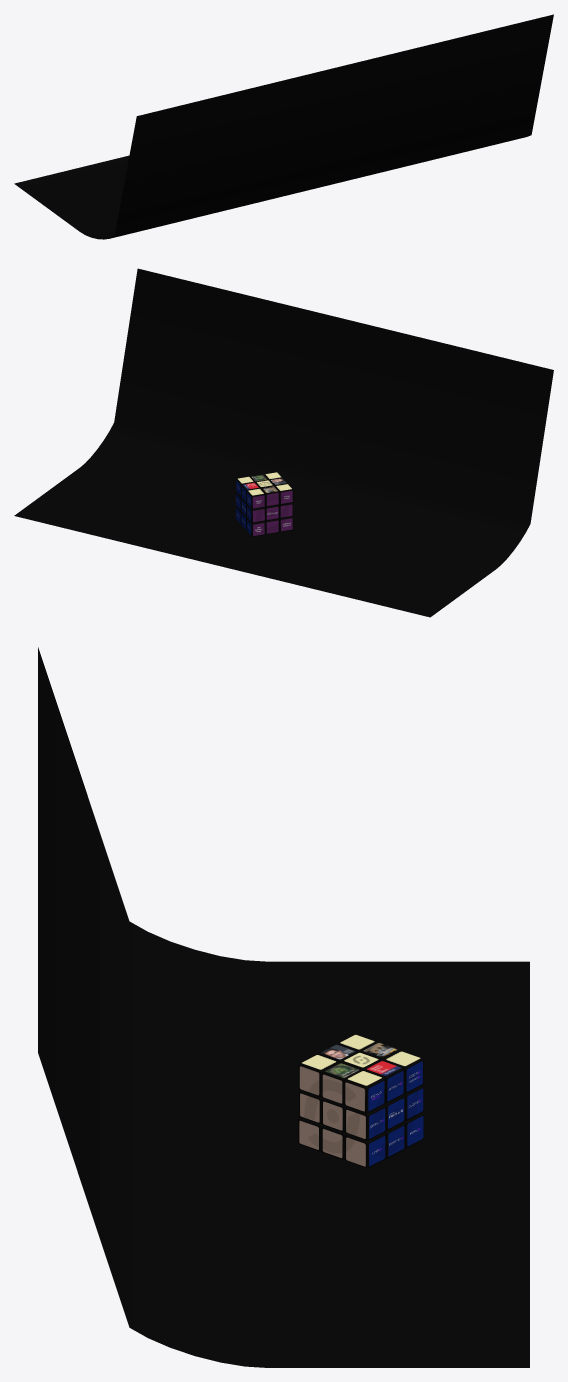
File: Rubix_cube_lighting_test_scene.glb
The picture shows the model from 3 angles, top to bottom: view 1: azimuth 30°, elevation 25°; view 2: azimuth 150°, elevation 25°; view 3: azimuth 270°, elevation 25°; orthographic projection. The views are drawn at different scales.
Parts seen in each view (by area): view 1: Plane; view 2: Plane; view 3: Plane.
Part boxes in pixels (left/top/right/bottom): Plane: left=14, top=14, right=553, bottom=239; Plane: left=14, top=268, right=553, bottom=617; Plane: left=38, top=647, right=529, bottom=1367.
Bounding box in the file's own units: 89.66 × 32.37 × 45.84.
Materials: 8 (6 with a texture image).
